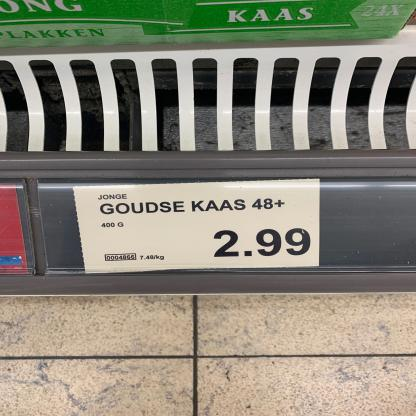prtg: (74, 179, 321, 275)
